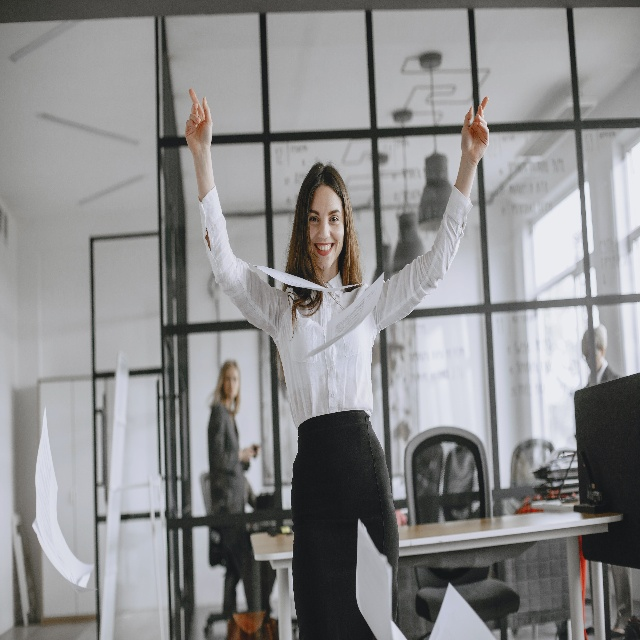Sin_guantes: (181, 84, 215, 157), (461, 94, 492, 162)
